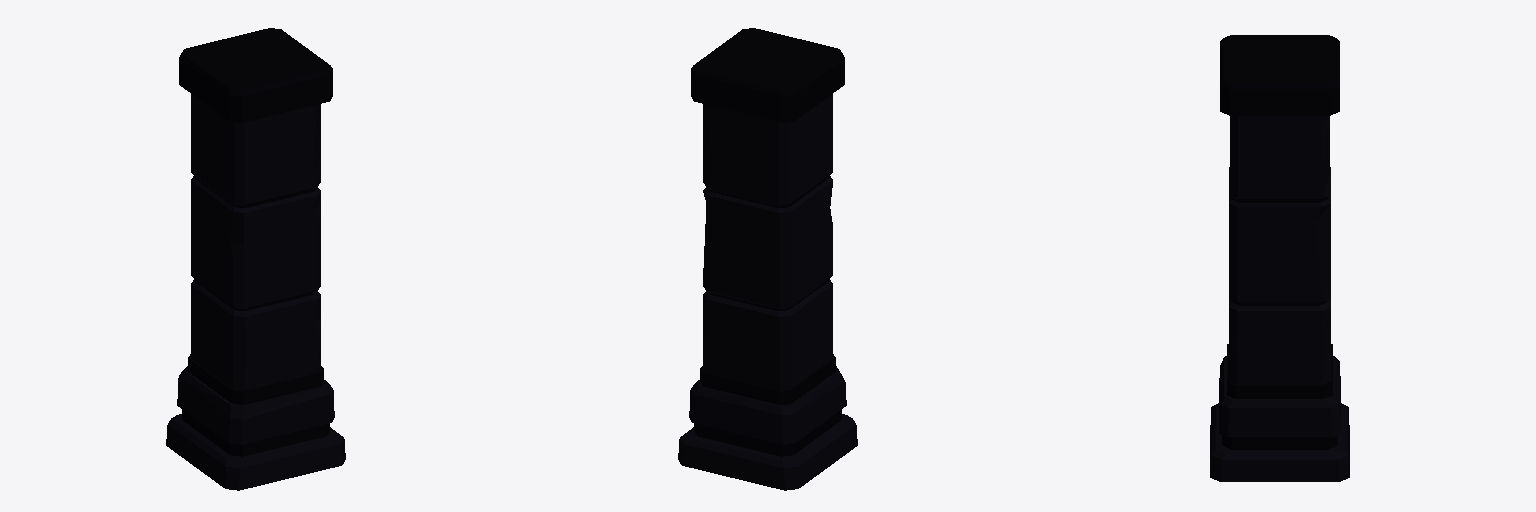
File: Column.obj
3 renders of one model, left to right at view 1: azimuth 30°, elevation 25°; view 2: azimuth 150°, elevation 25°; view 3: azimuth 270°, elevation 25°, orthographic.
Parts seen in each view (by area): view 1: Column_Cube.083; view 2: Column_Cube.083; view 3: Column_Cube.083.
Part boxes in pixels (left/top/right/bottom): Column_Cube.083: left=166, top=28, right=345, bottom=490; Column_Cube.083: left=678, top=28, right=857, bottom=490; Column_Cube.083: left=1210, top=35, right=1349, bottom=481.
Bounding box in the file's own units: 1.3 × 4.07 × 1.3.